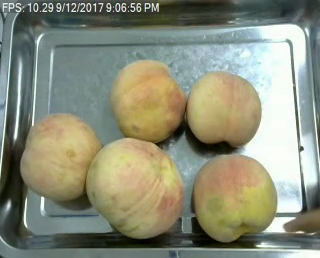Peach: (85, 135, 181, 239), (192, 154, 278, 242), (19, 114, 101, 202), (108, 59, 188, 143), (187, 70, 263, 146)
